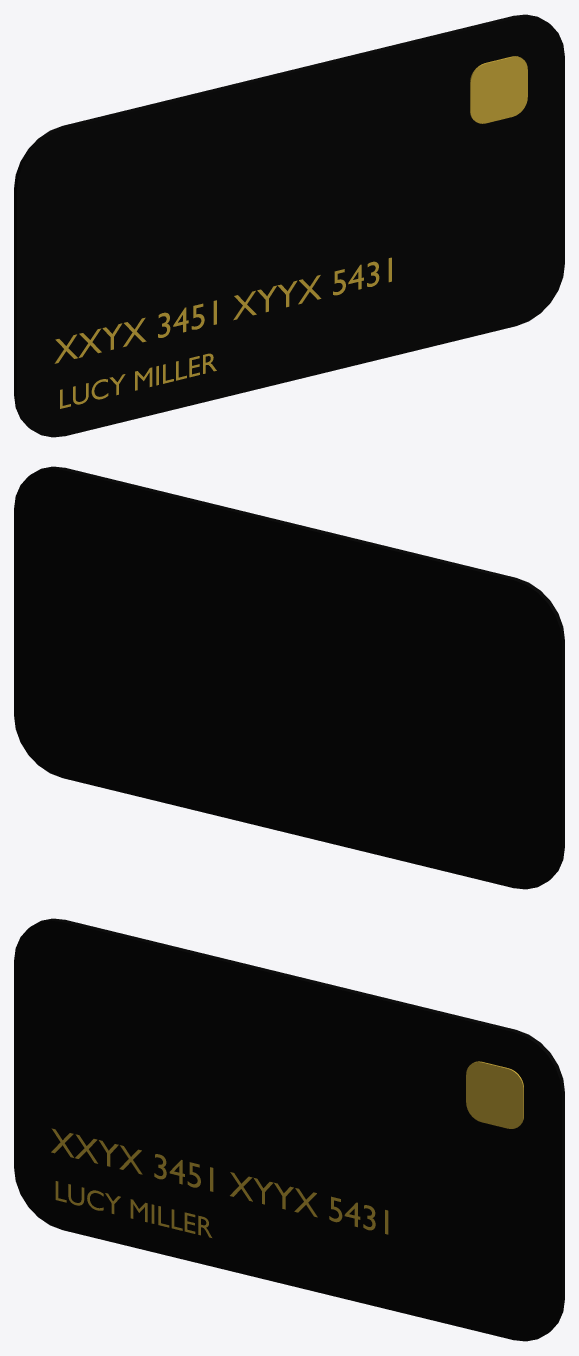
The model's file is CARD.fbx.
3 views of the same model, one above another, from view 1: azimuth 30°, elevation 25°; view 2: azimuth 150°, elevation 25°; view 3: azimuth 330°, elevation 25° (orthographic).
Visible parts, largest first — view 1: Cube.001, Text, Text.001; view 2: Cube.001; view 3: Cube.001, Text, Text.001.
Boxes of the visible parts, x1,y1,x2,y2 form: Cube.001: (14, 14, 564, 437); Text: (54, 257, 391, 363); Text.001: (60, 353, 216, 408); Cube.001: (14, 466, 564, 889); Cube.001: (14, 918, 564, 1341); Text: (51, 1128, 388, 1234); Text.001: (55, 1181, 211, 1237).
Bounding box in the file's own units: 331 × 178 × 3.9.
